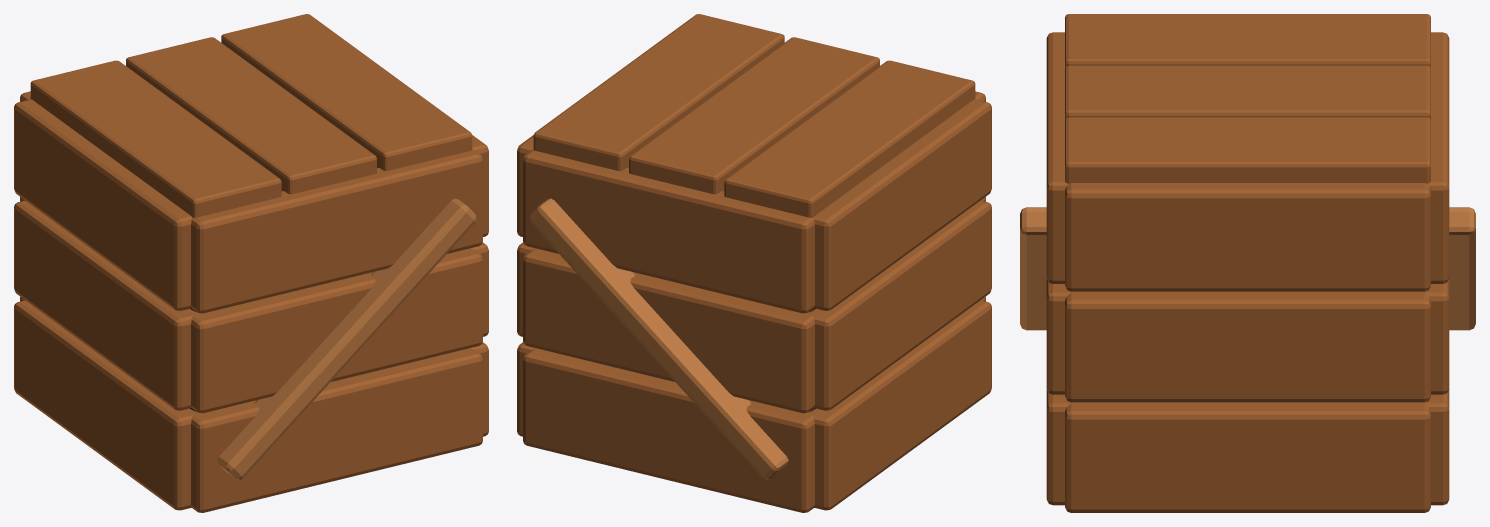
The model's file is kit_crate.glb.
3 views of the same model, side by side, from view 1: azimuth 30°, elevation 25°; view 2: azimuth 150°, elevation 25°; view 3: azimuth 270°, elevation 25° (orthographic). The views are drawn at different scales.
Visible parts, largest first — view 1: Crate plank.008, Crate plank, Crate plank.004, Crate plank.009, Crate lid, Crate plank.001, Crate plank.005, Crate lid.002, Crate lid.001, Crate diagonal, Crate plank.011, Crate plank.003 (+1 smaller); view 2: Crate plank.010, Crate plank.002, Crate plank.006, Crate plank.009, Crate lid, Crate plank.001, Crate plank.005, Crate lid.002, Crate lid.001, Crate diagonal.001, Crate plank.011, Crate plank.003 (+1 smaller); view 3: Crate plank.007, Crate plank.003, Crate plank.011, Crate lid.002, Crate lid.001, Crate lid, Crate plank.008, Crate plank.010, Crate diagonal, Crate diagonal.001, Crate plank, Crate plank.002 (+2 smaller).
Boxes of the visible parts, x1,y1,x2,y2 form: Crate plank.008: (191,149,482,313); Crate plank: (191,348,482,512); Crate plank.004: (191,248,482,413); Crate plank.009: (14,99,192,310); Crate lid: (30,60,281,217); Crate plank.001: (14,300,195,510); Crate plank.005: (14,200,195,410); Crate lid.002: (221,14,472,170); Crate lid.001: (126,37,376,194); Crate diagonal: (217,198,476,479); Crate plank.011: (472,135,488,236); Crate plank.003: (470,342,488,436); Crate plank.010: (523,149,814,313); Crate plank.002: (523,348,814,512); Crate plank.006: (523,248,814,413); Crate plank.009: (813,99,991,310); Crate lid: (724,60,975,217); Crate plank.001: (809,300,991,510); Crate plank.005: (809,200,991,410); Crate lid.002: (533,14,784,170); Crate lid.001: (629,37,879,194); Crate diagonal.001: (529,198,788,479); Crate plank.011: (517,135,533,236); Crate plank.003: (517,342,535,436); Crate plank.007: (1065,291,1430,402); Crate plank.003: (1065,402,1430,512); Crate plank.011: (1065,183,1430,291); Crate lid.002: (1065,117,1430,183); Crate lid.001: (1065,65,1430,119); Crate lid: (1065,14,1430,68); Crate plank.008: (1046,32,1068,283); Crate plank.010: (1427,32,1449,283); Crate diagonal: (1020,207,1046,330); Crate diagonal.001: (1449,207,1475,330); Crate plank: (1046,389,1071,505); Crate plank.002: (1424,389,1449,505).
Size of the model in its own units: 0.495 by 0.464 by 0.56.
